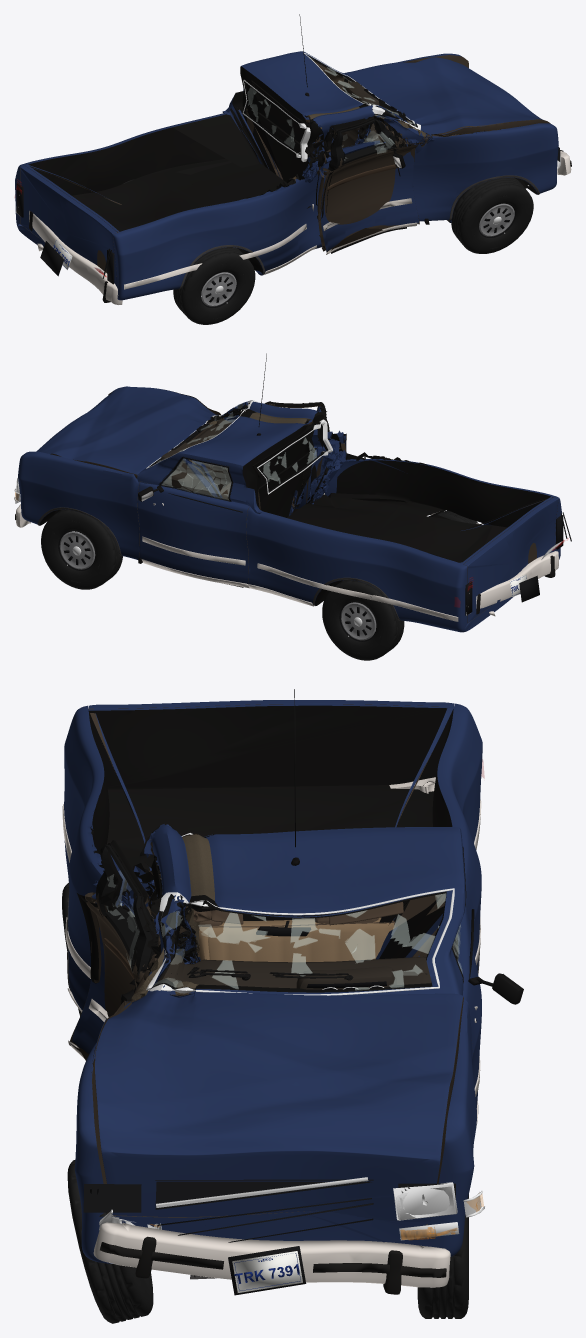
Rendered from pickup87_side_R_d2_lod1.glb.
3 views of the same model, one above another, from view 1: azimuth 30°, elevation 25°; view 2: azimuth 150°, elevation 25°; view 3: azimuth 270°, elevation 25° (orthographic). The views are drawn at different scales.
Parts seen in each view (by area): view 1: Body, Hood, Door_FR, Wheel_FR_mesh, Tailgate, Wheel_RR_mesh, Trim, Glass, Bumper_R, Glass_FR, Ends, Trim_FR (+1 smaller); view 2: Body, Hood, Door_FL, Wheel_FL_mesh, Wheel_RL_mesh, Tailgate, Trim, Glass, Interior, Trim_FL, Glass_FL, Bumper_R (+2 smaller); view 3: Body, Hood, Interior, Ends, Bumper_F, Glass, Door_FR, Wheel_FR_mesh, Glass_FR, Wheel_FL_mesh, Trim, Door_FL (+3 smaller).
Boxes of the visible parts, x1,y1,x2,y2 form: Body: [15, 51, 558, 300]; Hood: [344, 57, 550, 138]; Door_FR: [317, 117, 419, 253]; Wheel_FR_mesh: [451, 177, 533, 253]; Tailgate: [20, 165, 117, 286]; Wheel_RR_mesh: [173, 247, 255, 324]; Trim: [124, 14, 539, 289]; Glass: [242, 53, 420, 161]; Bumper_R: [29, 210, 122, 304]; Glass_FR: [328, 119, 398, 168]; Ends: [16, 147, 560, 284]; Trim_FR: [323, 118, 417, 254]; Body: [18, 391, 561, 632]; Hood: [36, 386, 218, 478]; Door_FL: [137, 456, 249, 583]; Wheel_FL_mesh: [41, 509, 122, 589]; Wheel_RL_mesh: [322, 580, 404, 660]; Tailgate: [463, 497, 558, 622]; Trim: [37, 353, 484, 621]; Glass: [146, 400, 332, 494]; Interior: [161, 419, 231, 499]; Trim_FL: [138, 457, 249, 588]; Glass_FL: [161, 458, 232, 501]; Bumper_R: [476, 551, 558, 614]; Body: [64, 703, 482, 1263]; Hood: [94, 990, 463, 1224]; Interior: [157, 902, 431, 989]; Ends: [83, 1177, 484, 1295]; Bumper_F: [93, 1222, 450, 1294]; Glass: [146, 833, 454, 995]; Door_FR: [69, 840, 158, 1060]; Wheel_FR_mesh: [67, 1160, 153, 1323]; Glass_FR: [96, 844, 158, 987]; Wheel_FL_mesh: [417, 1194, 468, 1318]; Trim: [62, 689, 481, 1012]; Door_FL: [434, 893, 481, 1107].
Bounding box in the file's own units: 5.16 × 2.44 × 2.12.
Materials: 34 (5 with a texture image).
